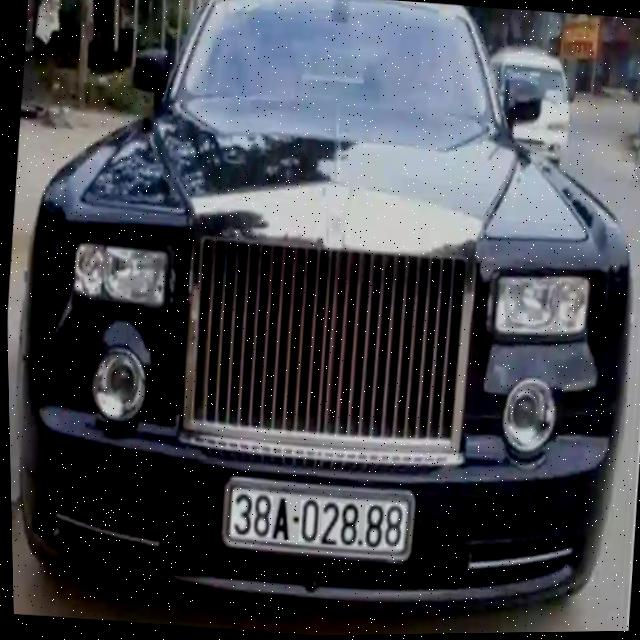car: (0, 0, 637, 620), (478, 38, 578, 170)
plate: (219, 476, 419, 567)
